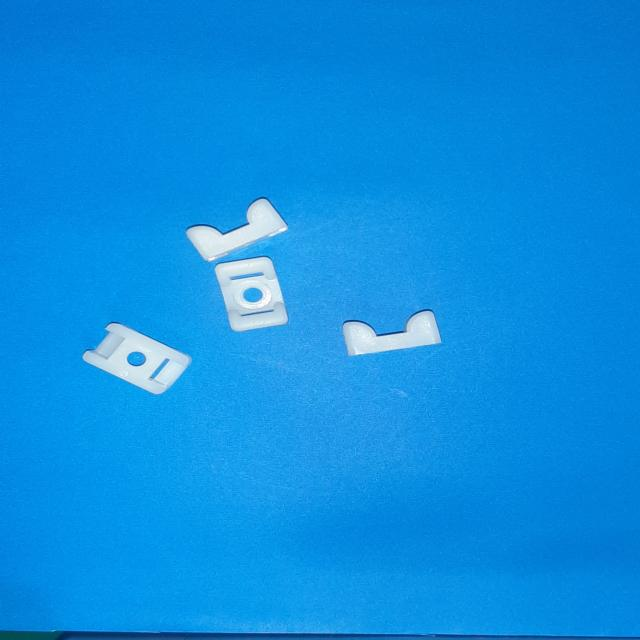false_1: (83, 322, 192, 394)
false_2: (187, 198, 288, 261), (343, 310, 442, 356)
true: (215, 258, 288, 331)
true_center: (242, 288, 263, 302)
